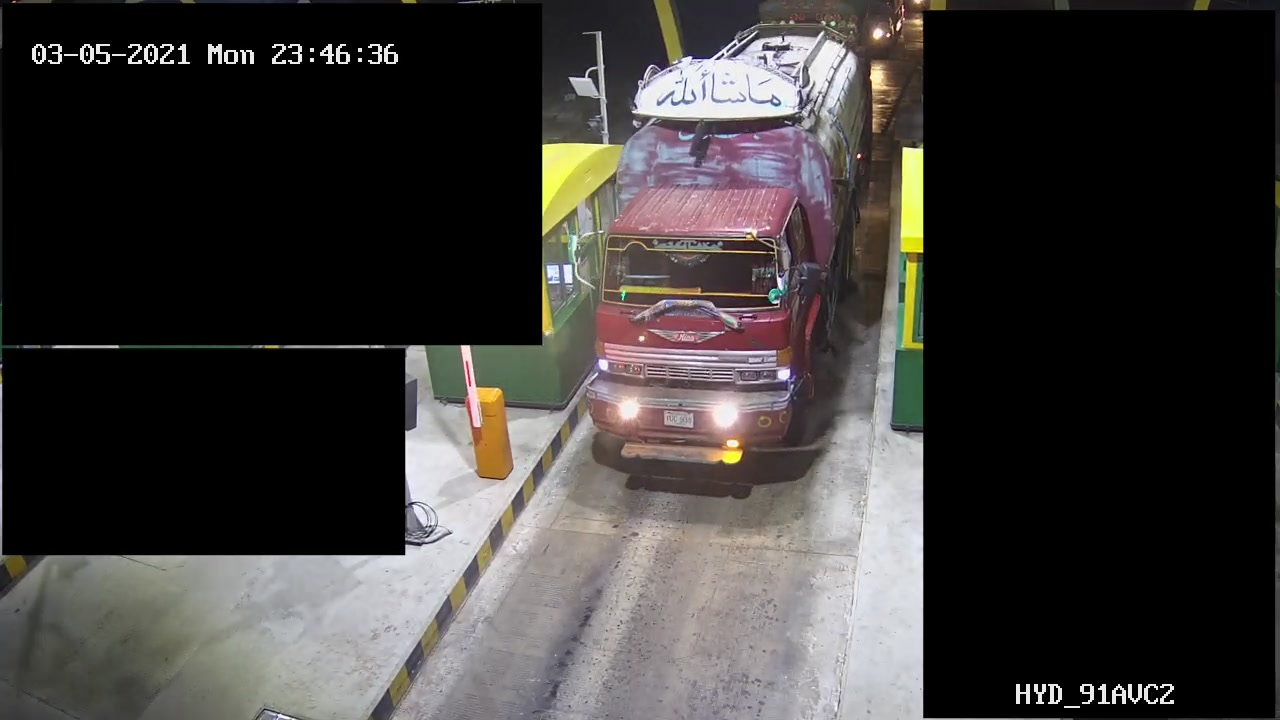F6: (578, 24, 881, 494)
